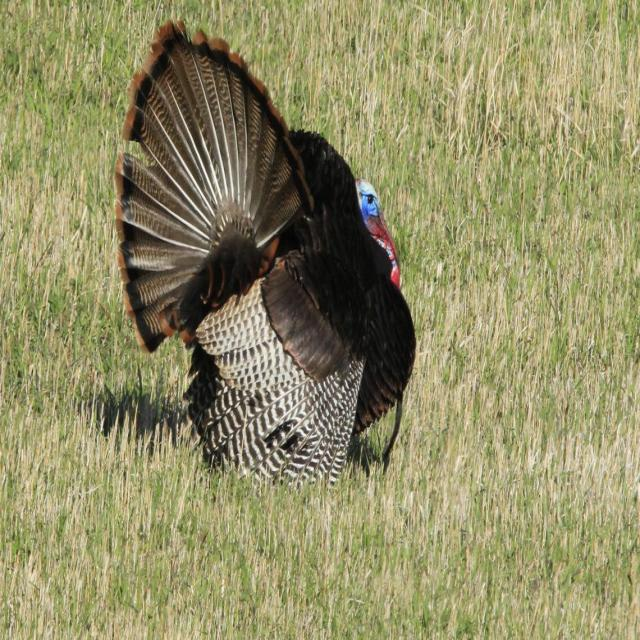turkey: (116, 22, 416, 481)
